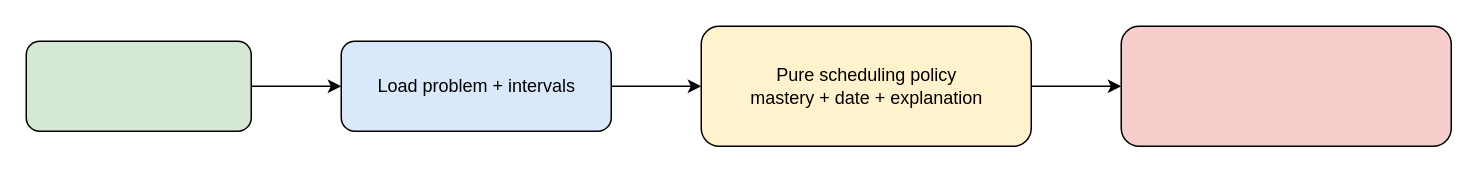
The diagram is 1478 pixels wide and 173 high, and some of its shapes have lost their labels. Each missing label, with the centre of its shape:
"Attempt input" goes at [138,85].
"One transaction insert attempt + update summary" goes at [1285,85].
